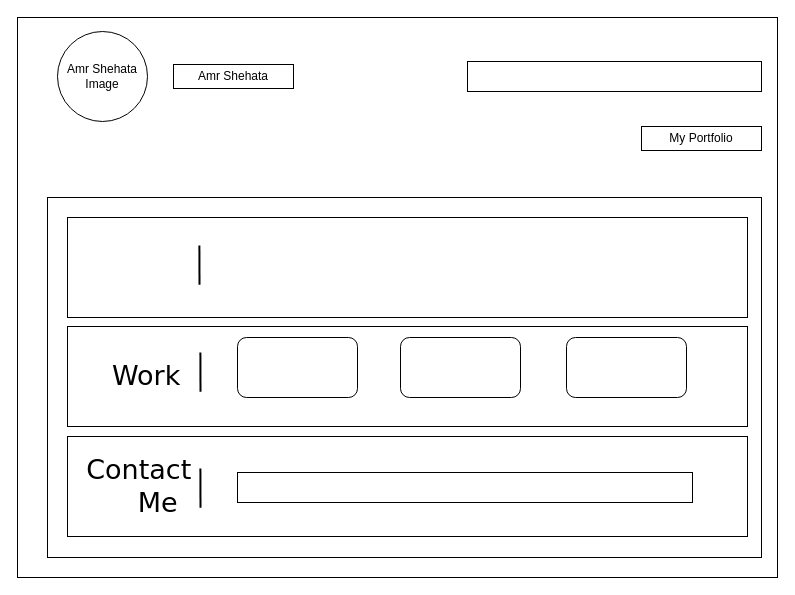
Image size: 795x595. Some labels were removed from this diagram. Here are the shapes that lost their labels. From the top down, the centre of each, then its label:
At point (614, 76): "About Me Work Contact Me Resume".
At point (407, 267): "About Me".
At point (464, 487): "Mobile: 07999888777 amrshehata@learning.com GitHub Linkedin".
